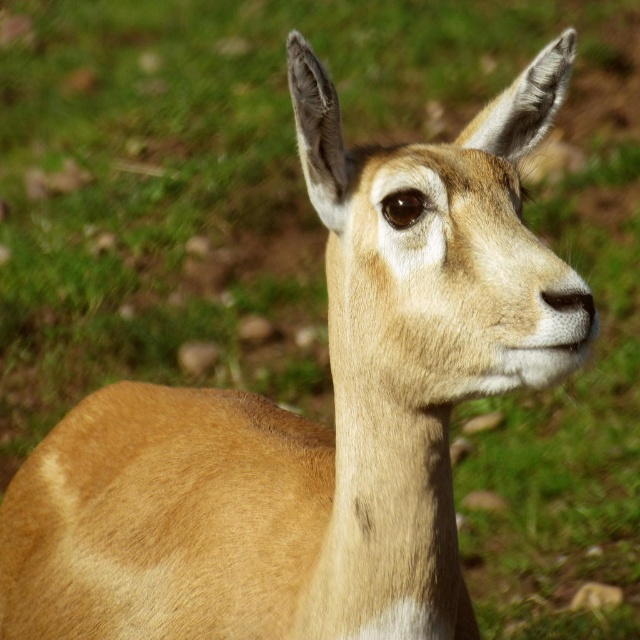Deer: (0, 28, 601, 640)
